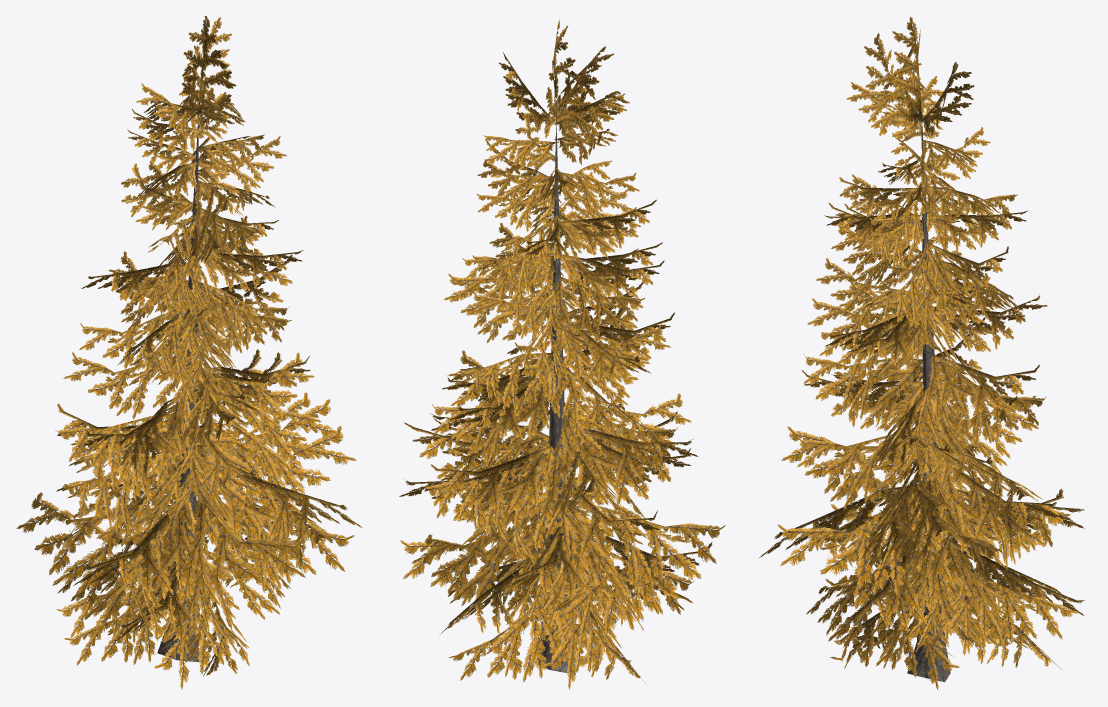
Rendered from Larix_Decidua_Autumn_Young.glb.
3 views of the same model, side by side, from view 1: azimuth 30°, elevation 25°; view 2: azimuth 150°, elevation 25°; view 3: azimuth 270°, elevation 25° (orthographic). The views are drawn at different scales.
Visible parts, largest first — view 1: Larix_Decidua_Autumn_Young__LOD3; view 2: Larix_Decidua_Autumn_Young__LOD3; view 3: Larix_Decidua_Autumn_Young__LOD3.
Part boxes in pixels (<box>): Larix_Decidua_Autumn_Young__LOD3: <box>16,16,362,689</box>; Larix_Decidua_Autumn_Young__LOD3: <box>399,19,725,689</box>; Larix_Decidua_Autumn_Young__LOD3: <box>759,16,1084,689</box>.
Size of the model in its own units: 4.33 by 8.99 by 4.15.
Materials: 2 (2 with a texture image).
